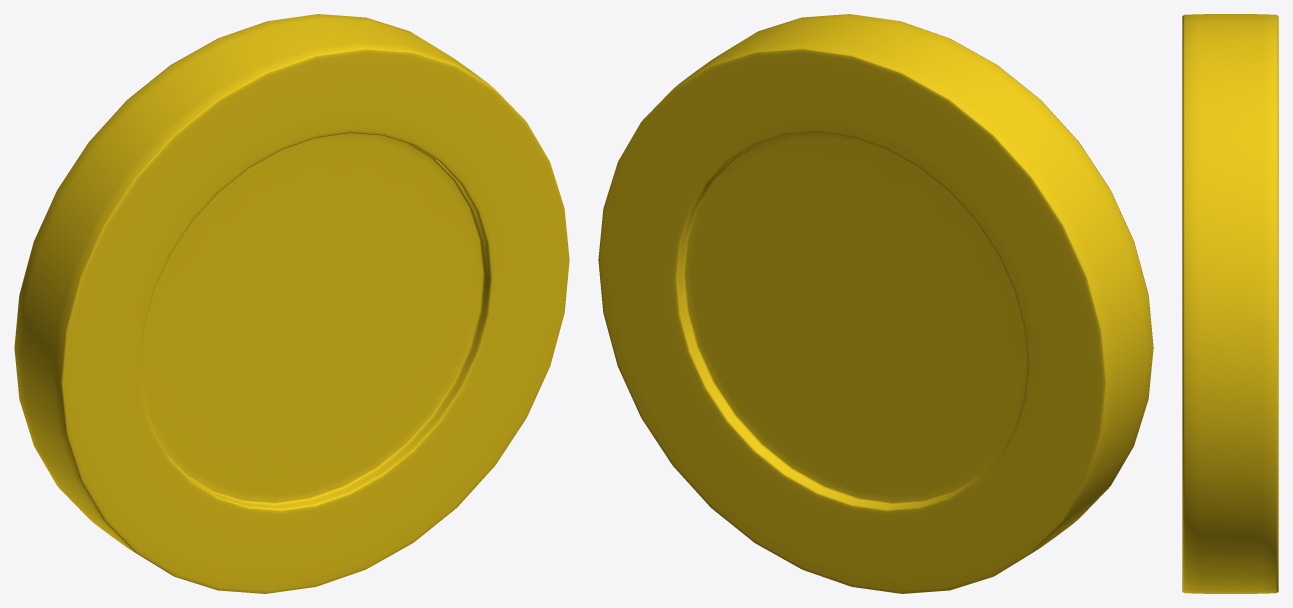
Rendered from coin.fbx.
3 renders of one model, left to right at view 1: azimuth 30°, elevation 25°; view 2: azimuth 150°, elevation 25°; view 3: azimuth 270°, elevation 25°, orthographic.
Visible parts, largest first — view 1: coin; view 2: coin; view 3: coin.
Part boxes in pixels (x1,y1,x2,y2): coin: (14, 14, 569, 593); coin: (598, 14, 1153, 593); coin: (1182, 14, 1278, 593).
Bounding box in the file's own units: 0.1256 × 0.1256 × 0.0209.
